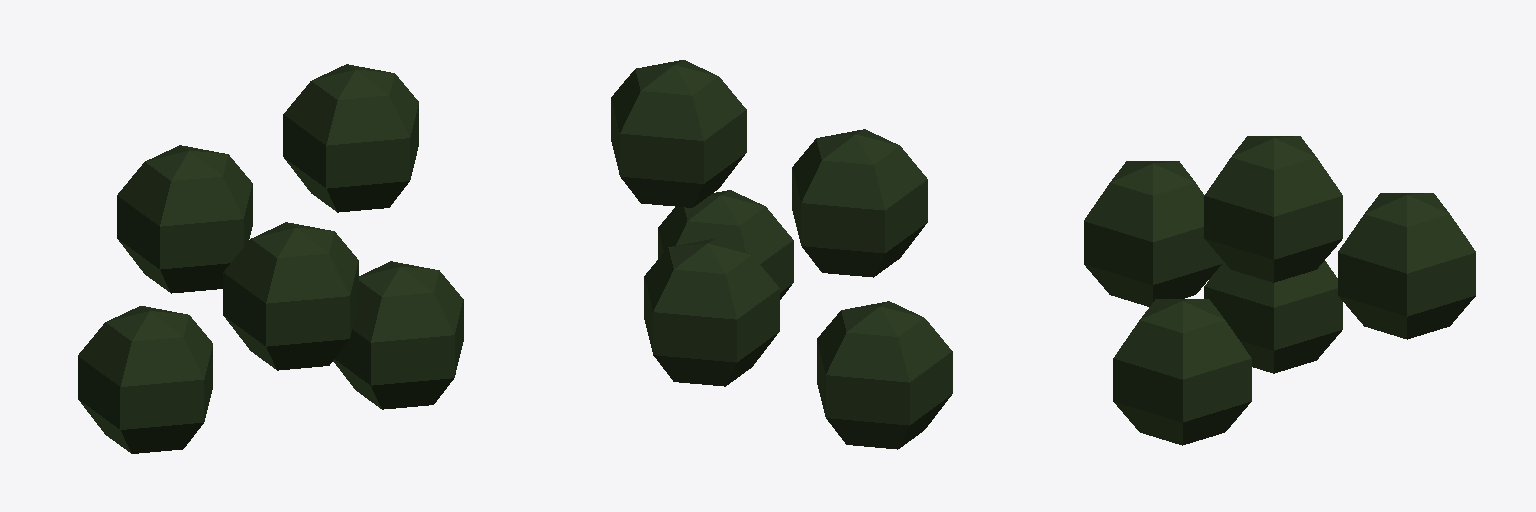
The model's file is EnemyBullet.obj.
3 views of the same model, side by side, from view 1: azimuth 30°, elevation 25°; view 2: azimuth 150°, elevation 25°; view 3: azimuth 270°, elevation 25° (orthographic).
Parts seen in each view (by area): view 1: pSphere6; view 2: pSphere6; view 3: pSphere6.
Boxes of the visible parts, x1,y1,x2,y2 form: pSphere6: [78, 64, 463, 453]; pSphere6: [611, 60, 952, 449]; pSphere6: [1084, 136, 1475, 445].
Size of the model in its own units: 4.82 by 4.75 by 5.12.